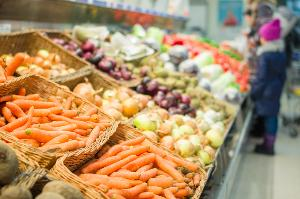carrot: (75, 136, 201, 199), (0, 92, 108, 154)
onion: (57, 74, 158, 117), (130, 117, 221, 164), (2, 36, 86, 84)
